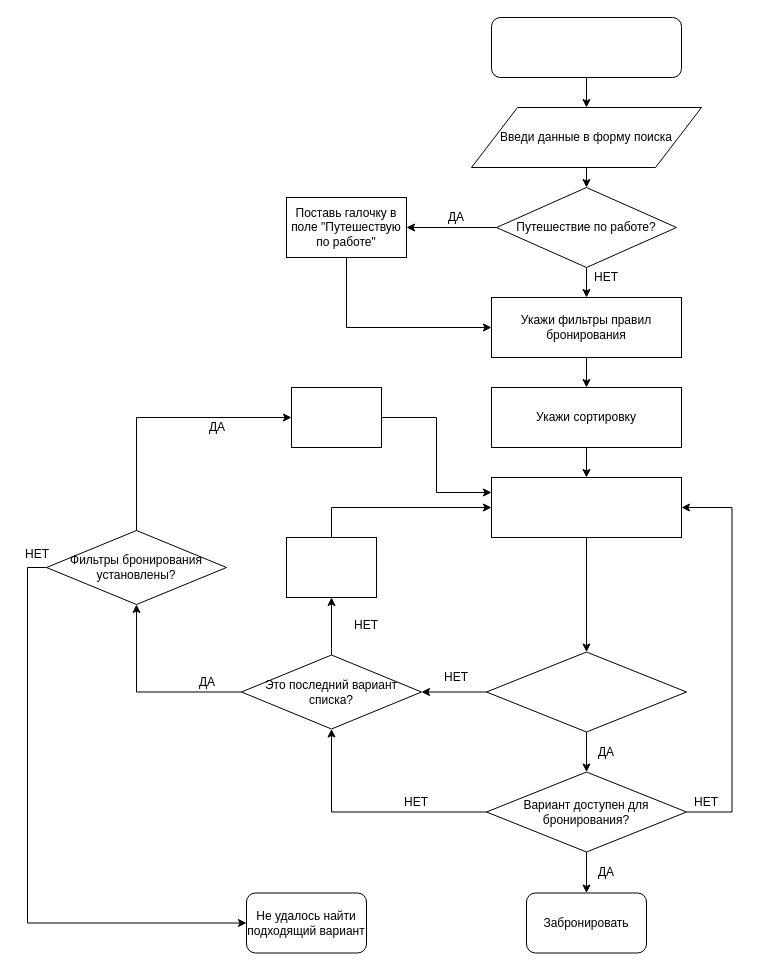
The diagram is 757 pixels wide and 971 high, and some of its shapes have lost their labels. The centre of each missing label's shape, as x and y in pixels:
"Вариант подходит?" belongs at (586,691).
"Начало" belongs at (586,47).
"Посмотри вариант размещения" belongs at (586,507).
"Сместись на один вариант ниже" belongs at (331,567).
"Сними фильтры правил бронирования" belongs at (336,417).
